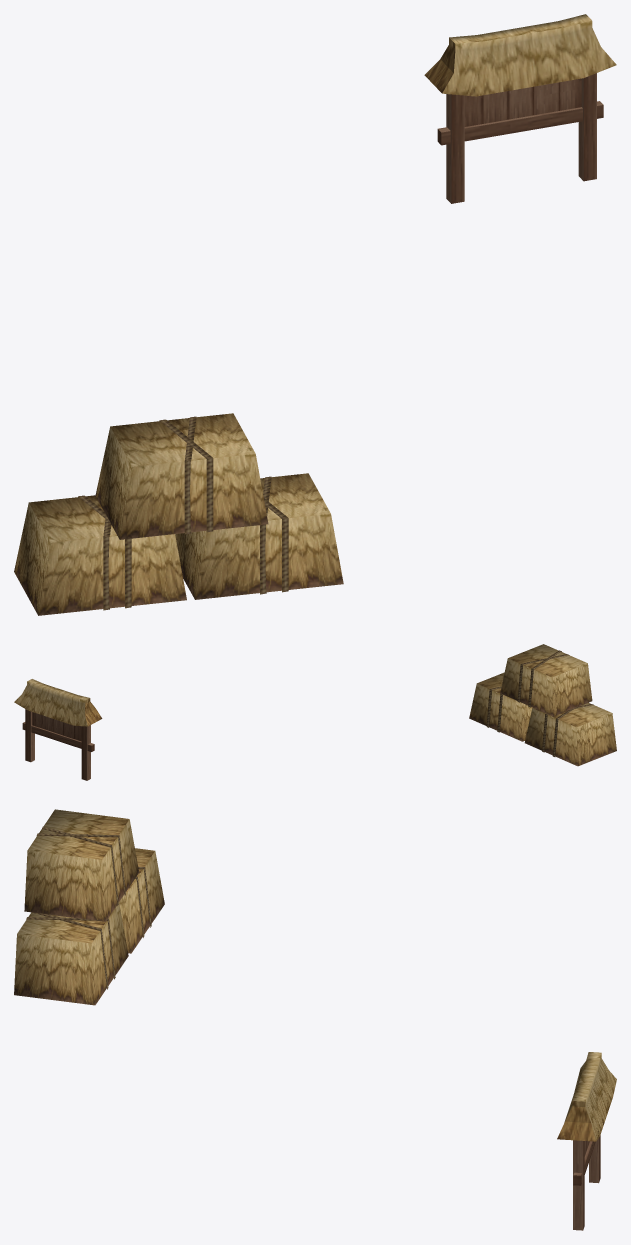
Rendered from Area_10_24.fbx.
3 views of the same model, one above another, from view 1: azimuth 30°, elevation 25°; view 2: azimuth 150°, elevation 25°; view 3: azimuth 270°, elevation 25° (orthographic). The views are drawn at different scales.
Visible parts, largest first — view 1: Area_10_24; view 2: Area_10_24; view 3: Area_10_24.
Part boxes in pixels (bbox=[...]): Area_10_24: bbox=[14, 14, 616, 615]; Area_10_24: bbox=[14, 644, 616, 780]; Area_10_24: bbox=[14, 809, 616, 1230].
Bounding box in the file's own units: 1656 × 288 × 1234.
